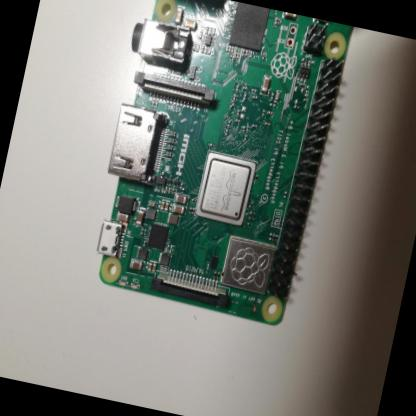Raspberry_Pi_3: (73, 1, 356, 342)
